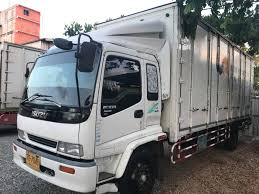truck: (15, 2, 254, 194)
